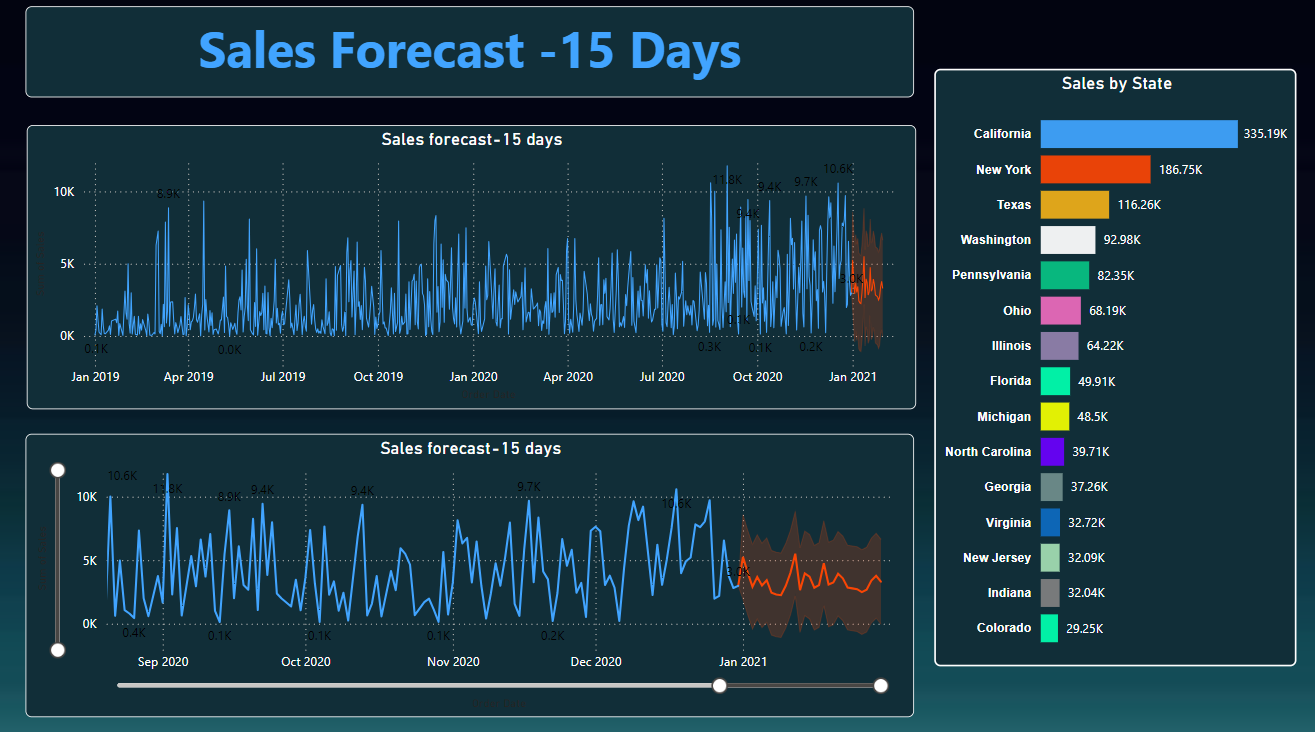

The page's visual inventory and layout, read from the dashboard file:
{"tool":"powerbi","page":{"name":"Page 2","canvas":[1280,720],"ordinal":1},"visuals":[{"type":"lineChart","title":"Sales forecast-15 days","fields":{"Y":["Sum(Sheet1.Sales)"],"Category":["Sheet1.Order Date"]},"box":[26.5,423.5,857.8,273.9],"z":0},{"type":"lineChart","title":"Sales forecast-15 days","fields":{"Y":["Sum(Sheet1.Sales)"],"Category":["Sheet1.Order Date"]},"box":[27.6,125.3,858.1,274.3],"z":1},{"type":"textbox","box":[26.5,10.9,857.8,88.1],"z":2},{"type":"barChart","title":"Sales by State","fields":{"Y":["Sum(Sheet1.Sales)"],"Category":["Sheet1.State"]},"box":[903.6,71.2,349.9,576.7],"z":3}]}

Visuals, with their boxes in screenshot pixels (x1, y1, x2, y2), scaled from the page's 1280x720 canvas onto the 1315x732 screenshot:
"Sales forecast-15 days" lineChart: locate(27, 431, 908, 709)
"Sales forecast-15 days" lineChart: locate(28, 127, 910, 406)
textbox: locate(27, 11, 908, 101)
"Sales by State" barChart: locate(928, 72, 1288, 659)
